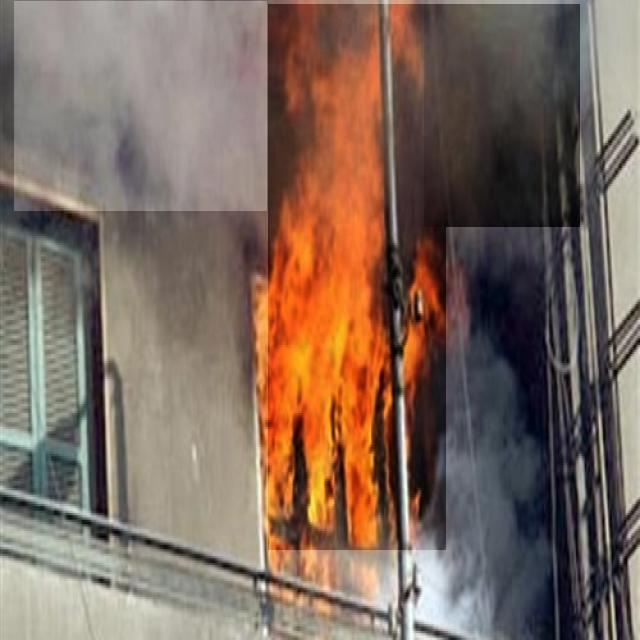Fire: (268, 4, 446, 550)
Smoke: (14, 2, 267, 212), (424, 4, 580, 227)
